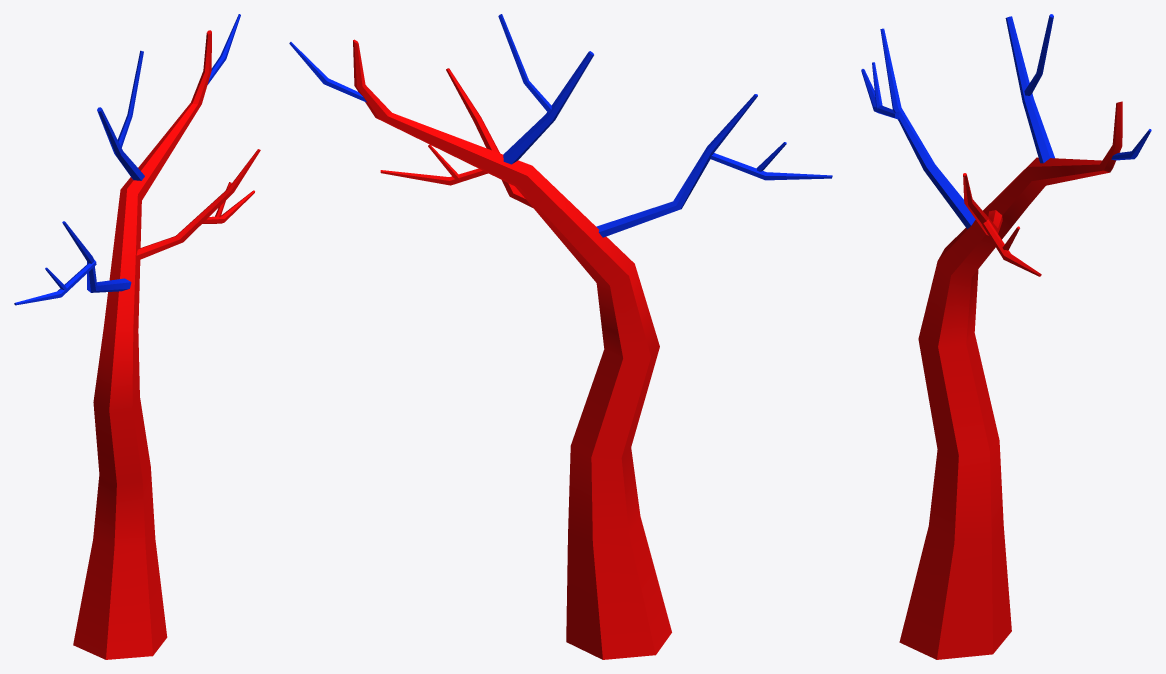
Rendered from Tree_2.fbx.
3 renders of one model, left to right at view 1: azimuth 30°, elevation 25°; view 2: azimuth 150°, elevation 25°; view 3: azimuth 270°, elevation 25°, orthographic. The views are drawn at different scales.
Parts seen in each view (by area): view 1: Tree_2; view 2: Tree_2; view 3: Tree_2.
Boxes of the visible parts, bbox=[...] form: Tree_2: bbox=[14, 14, 260, 659]; Tree_2: bbox=[289, 14, 832, 659]; Tree_2: bbox=[861, 14, 1151, 659].
Bounding box in the file's own units: 474 × 717 × 287.
